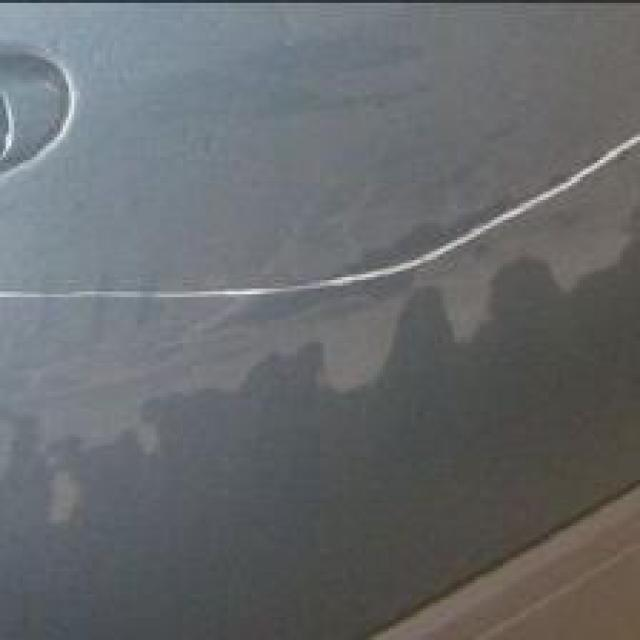damaged: (0, 137, 637, 309)
